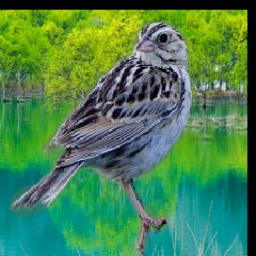Sparrow: (9, 20, 193, 256)
